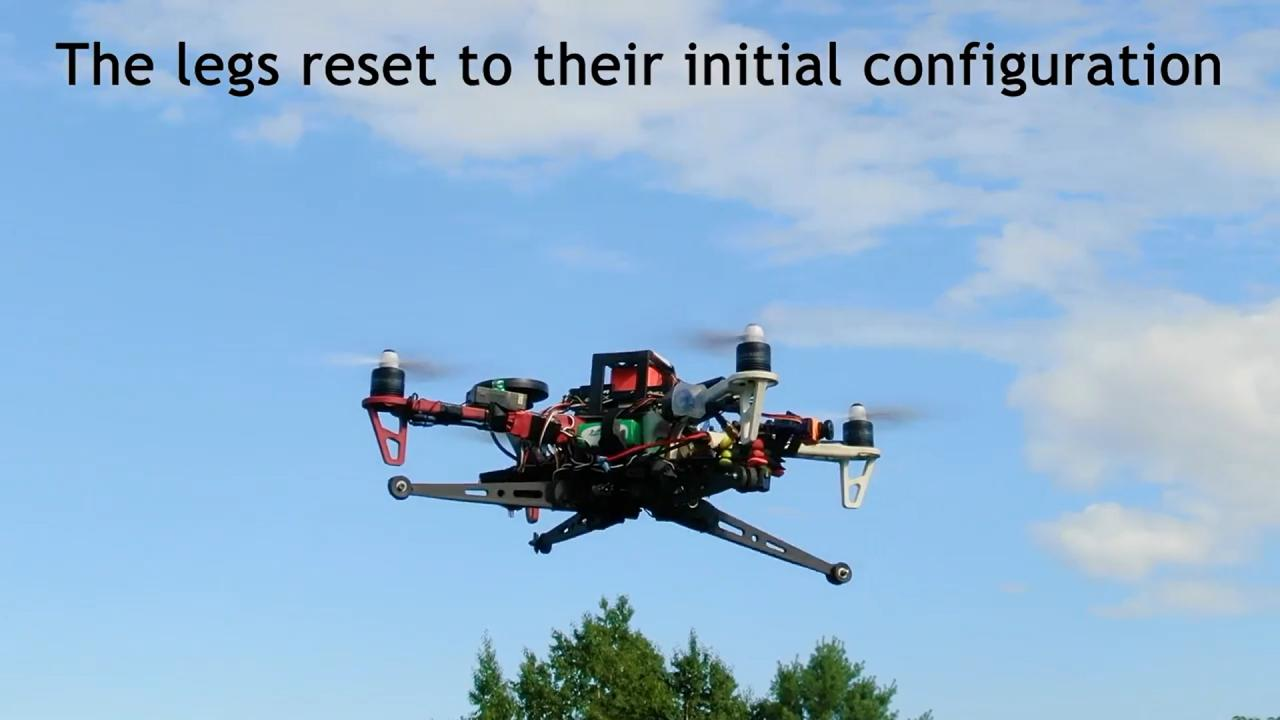Drone: (294, 300, 961, 596)
